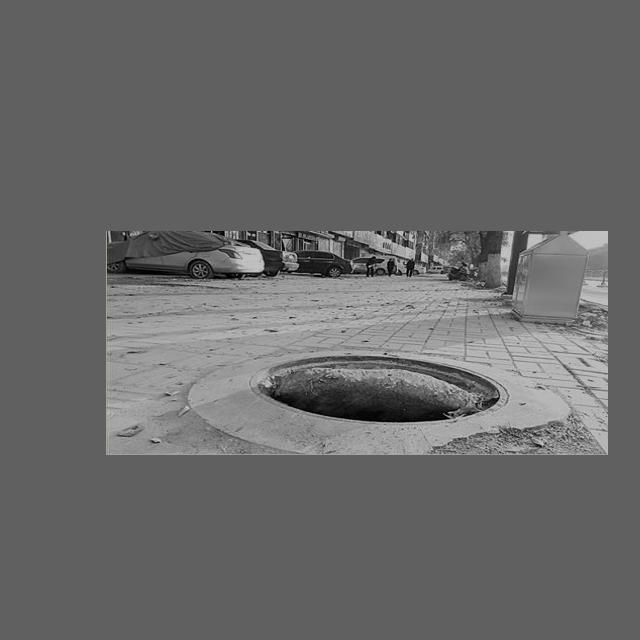lose: (200, 349, 568, 455)
